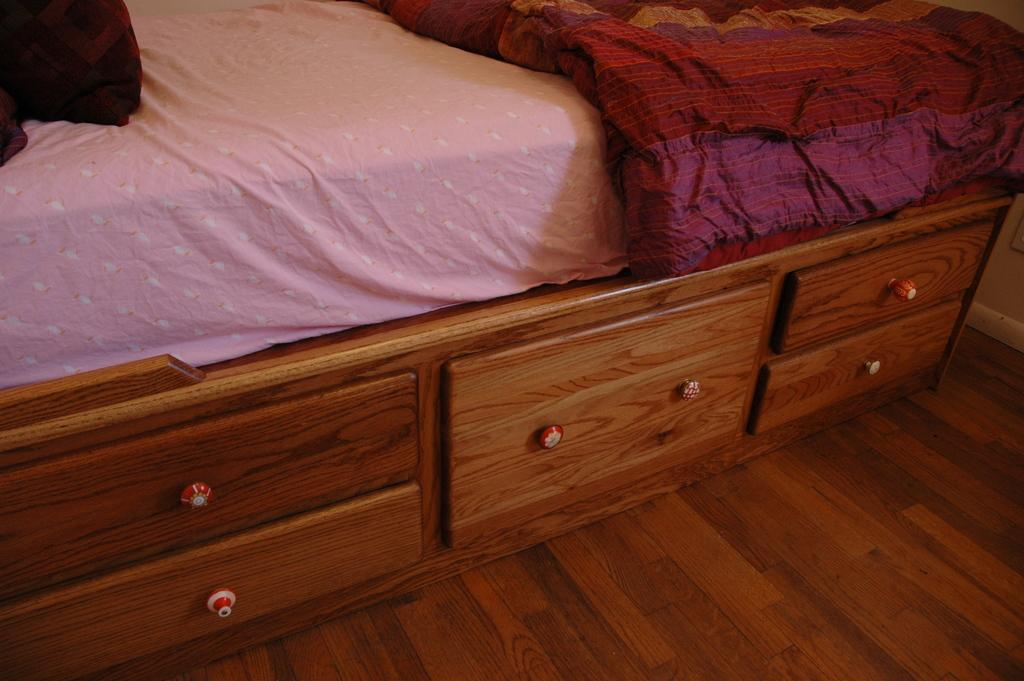cabinet_door: (473, 356, 737, 456), (10, 443, 414, 498), (42, 577, 402, 608), (806, 261, 970, 302), (781, 351, 945, 381)
handle: (530, 419, 572, 453), (203, 588, 235, 620), (182, 482, 216, 512), (861, 354, 888, 380), (892, 280, 918, 306), (680, 378, 701, 405)
